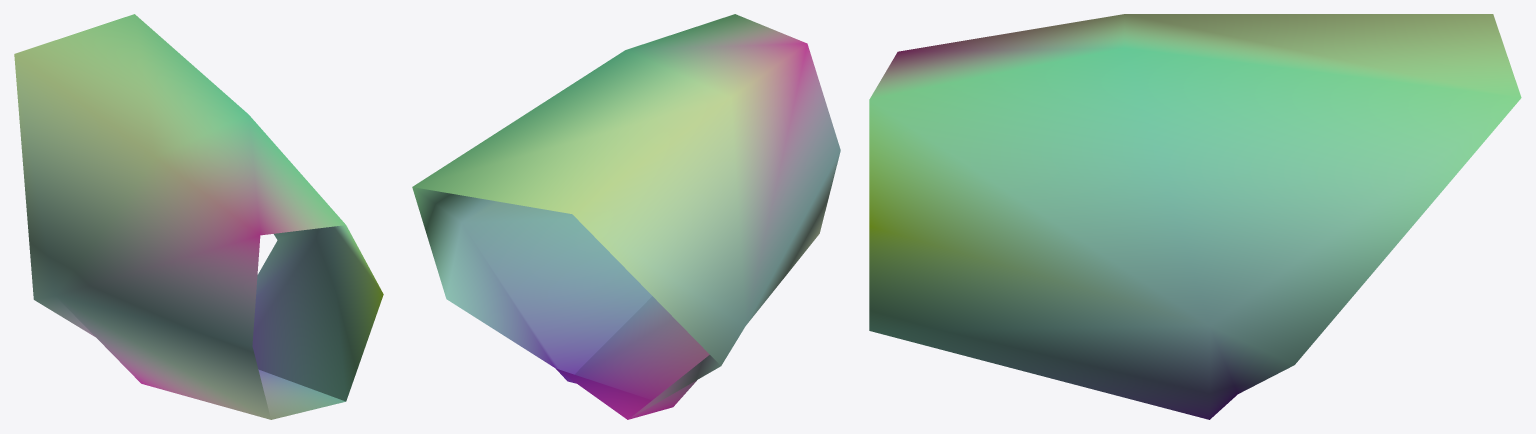
The picture shows the model from 3 angles, left to right: view 1: azimuth 30°, elevation 25°; view 2: azimuth 150°, elevation 25°; view 3: azimuth 270°, elevation 25°; orthographic projection. The views are drawn at different scales.
Visible parts, largest first — view 1: part; view 2: part; view 3: part.
Part boxes in pixels (left/top/right/bottom): part: left=14, top=14, right=383, bottom=419; part: left=412, top=14, right=840, bottom=419; part: left=869, top=14, right=1521, bottom=419.
Size of the model in its own units: 14 by 14 by 23.
